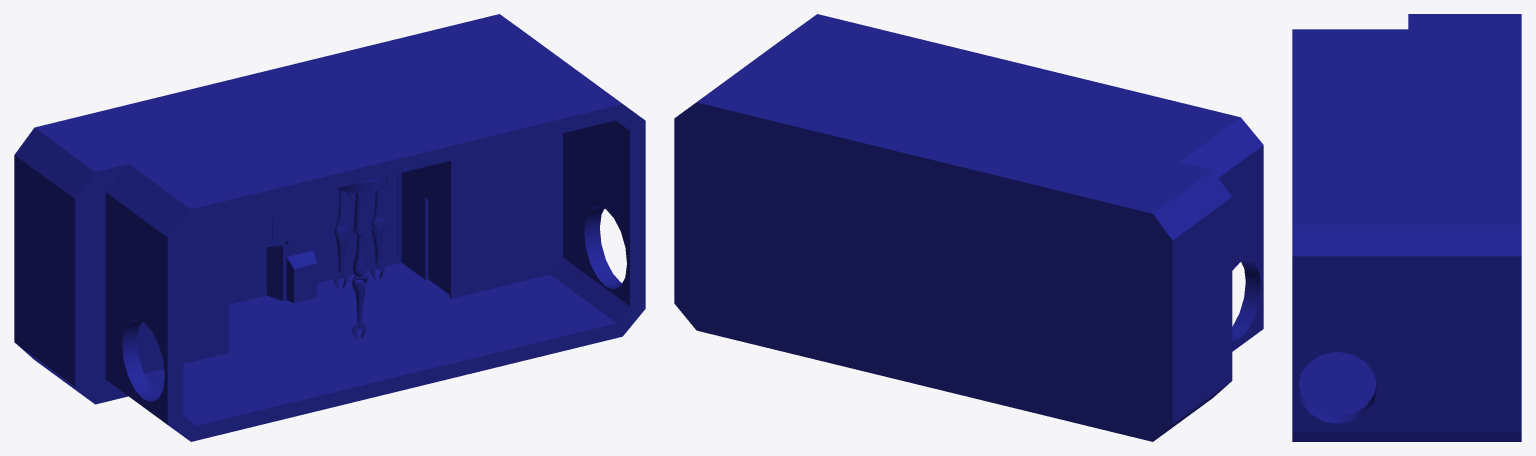
Rendered from Sala1-Clonacion-01.FBX.
The picture shows the model from 3 angles, left to right: view 1: azimuth 30°, elevation 25°; view 2: azimuth 150°, elevation 25°; view 3: azimuth 270°, elevation 25°; orthographic projection. The views are drawn at different scales.
Visible parts, largest first — view 1: sala-1, mampara, pantalla, mampara-Puerta-R; view 2: sala-1; view 3: sala-1.
Part boxes in pixels (x1,y1,x2,y2): sala-1: [14, 14, 645, 441]; mampara: [137, 133, 562, 373]; pantalla: [266, 201, 324, 303]; mampara-Puerta-R: [428, 200, 449, 294]; sala-1: [674, 14, 1263, 441]; sala-1: [1292, 14, 1521, 441].
Size of the model in its own units: 1541 by 674 by 647.
